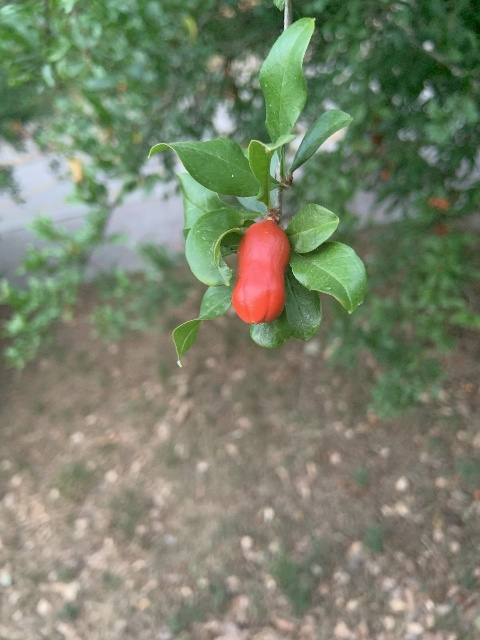bud: (232, 219, 289, 326)
